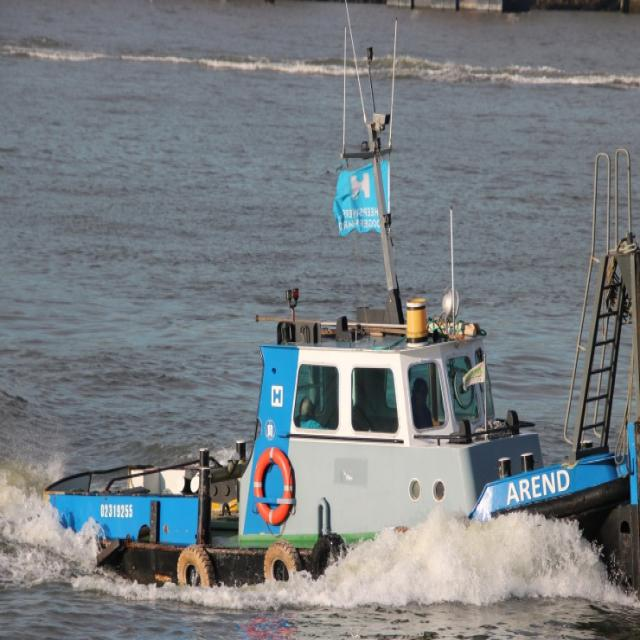tugboat: (32, 110, 640, 625)
